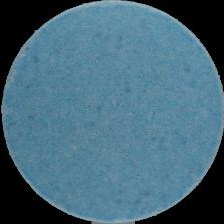68151-2476: (0, 0, 224, 224)
